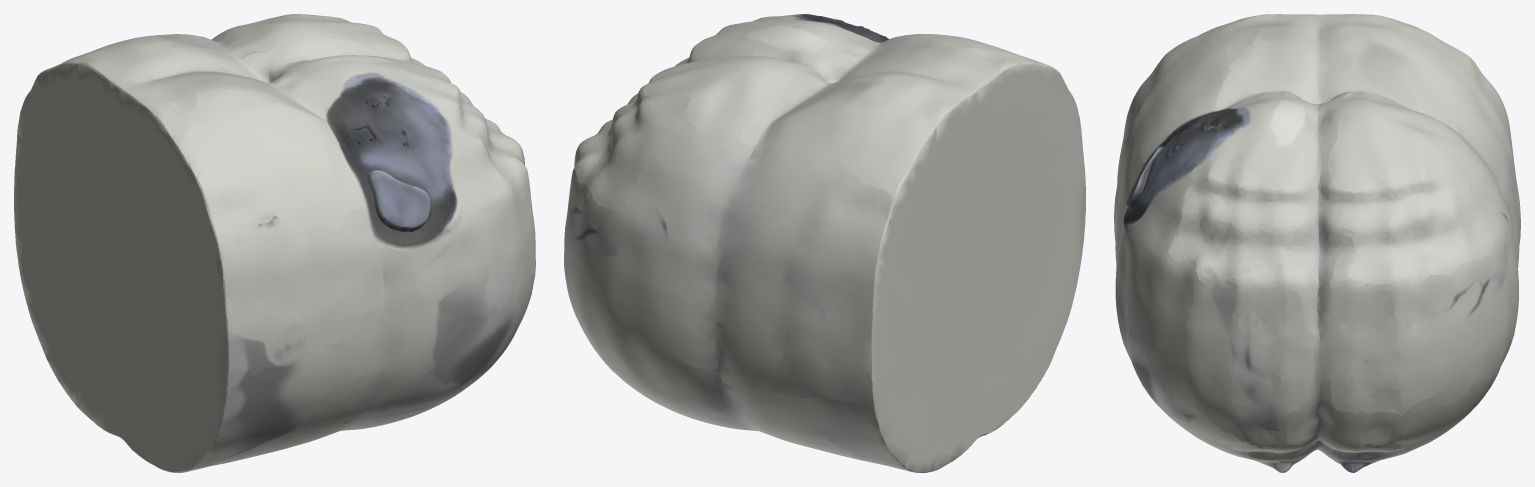
3 renders of one model, left to right at view 1: azimuth 30°, elevation 25°; view 2: azimuth 150°, elevation 25°; view 3: azimuth 270°, elevation 25°, orthographic. The views are drawn at different scales.
Parts seen in each view (by area): view 1: world; view 2: world; view 3: world.
Boxes of the visible parts, x1=… form: world: x1=14, y1=14, x2=535, y2=472; world: x1=564, y1=14, x2=1085, y2=472; world: x1=1114, y1=14, x2=1520, y2=472.
Bounding box in the file's own units: 0.585 × 0.5513 × 0.6.
Materials: 1 (1 with a texture image).
